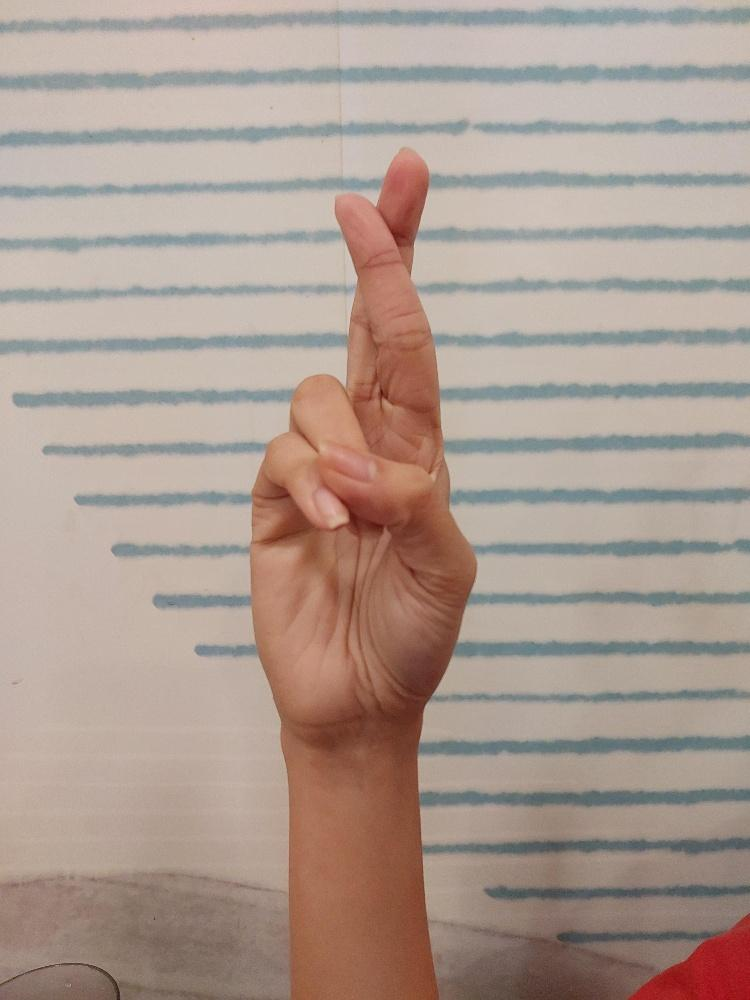r: (247, 144, 479, 736)
